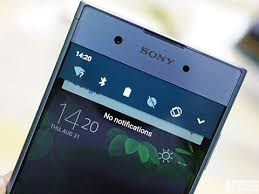sony: (1, 1, 248, 191)
